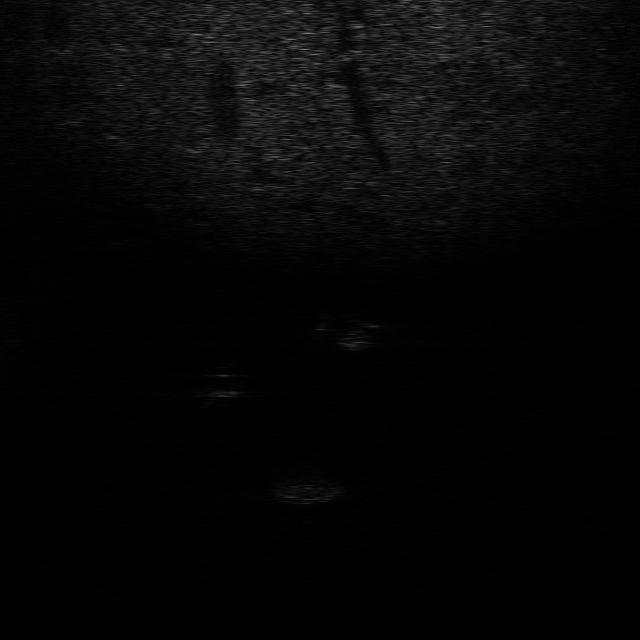ball: (198, 368, 252, 401)
circle cage: (265, 462, 341, 507)
human body: (304, 312, 388, 358)
